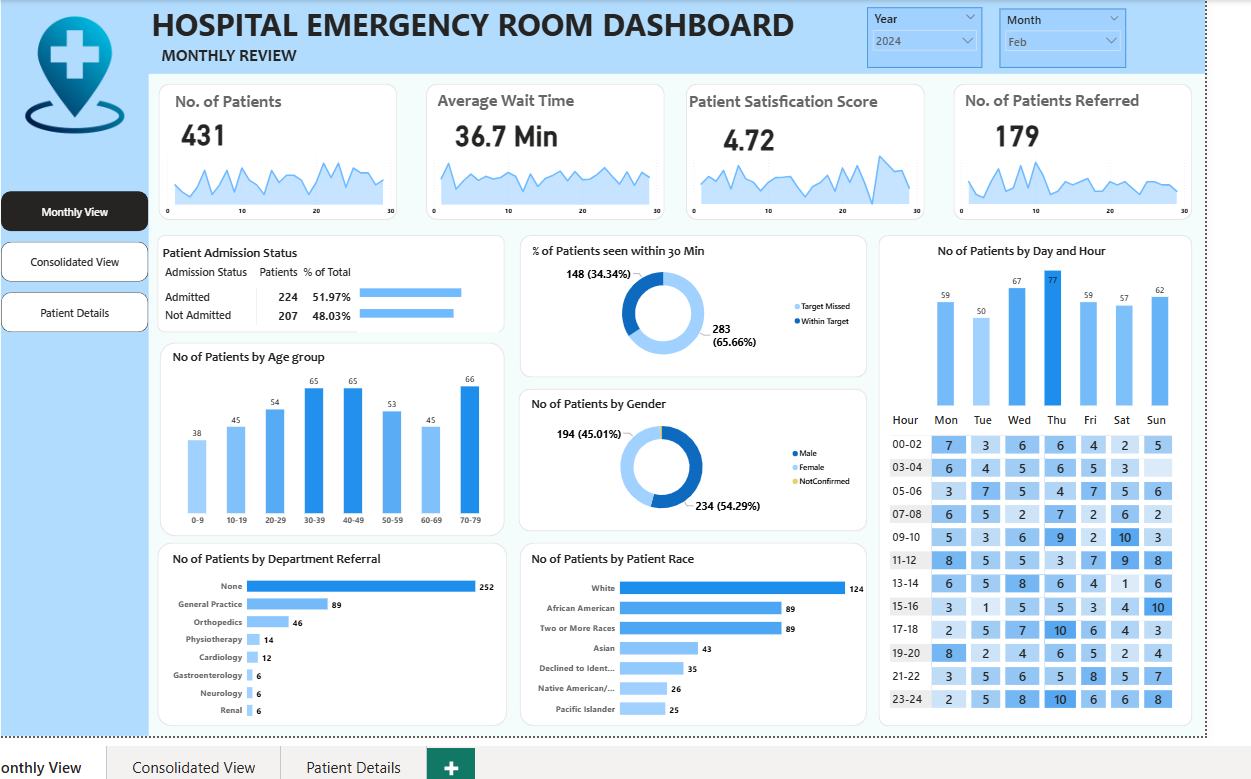

What the dashboard file says about the page in this screenshot:
{"tool":"powerbi","page":{"name":"Monthly View","canvas":[2300,1400],"ordinal":0},"visuals":[{"type":"shape","box":[9.9,0,280.9,1399.3],"z":0},{"type":"shape","box":[290.7,0,2010.3,140.4],"z":1000},{"type":"textbox","box":[290,0,1276.4,111.7],"z":2000},{"type":"shape","box":[309,159.3,454,259.1],"z":3000},{"type":"textbox","box":[309,80.8,287.6,59.4],"z":4000},{"type":"card","fields":{"Values":["Hospital ER_Data.No of Patient"]},"box":[335.1,211.5,121.2,76.1],"z":5000},{"type":"slicer","fields":{"Values":["Date Table.year"]},"box":[1656.7,14.3,218.7,114.1],"z":6000},{"type":"slicer","fields":{"Values":["Date Table.Month"]},"box":[1908.7,16.6,240.1,111.7],"z":7000},{"type":"textbox","box":[335.1,168.8,235.3,54.7],"z":8000},{"type":"areaChart","fields":{"Category":["Date Table.Date.Variation.Date Hierarchy.Day"],"Y":["Hospital ER_Data.No of Patients"]},"box":[311.4,282.9,454,135.5],"z":9000},{"type":"shape","box":[817.7,159.3,454,259.1],"z":10000},{"type":"shape","box":[1312.1,159.3,454,259.1],"z":11000},{"type":"shape","box":[1820.7,159.3,454,259.1],"z":12000},{"type":"textbox","box":[1837.4,166.4,358.9,59.4],"z":13000},{"type":"textbox","box":[1312.1,168.8,408.8,57],"z":14000},{"type":"textbox","box":[834.3,166.4,282.9,54.7],"z":15000},{"type":"card","fields":{"Values":["Hospital ER_Data.avg wait time"]},"box":[850.9,213.9,240.1,76.1],"z":16000},{"type":"areaChart","fields":{"Category":["Date Table.Date.Variation.Date Hierarchy.Day"],"Y":["Avg(Hospital ER_Data.Patient Waittime)"]},"box":[817.7,282.9,454,135.5],"z":17000},{"type":"areaChart","fields":{"Category":["Date Table.Date.Variation.Date Hierarchy.Day"],"Y":["Hospital ER_Data.satisffication score"]},"box":[1312.1,282.9,454,135.5],"z":18000},{"type":"card","fields":{"Values":["Hospital ER_Data.satisffication score"]},"box":[1312.1,221.1,240.1,76.1],"z":19000},{"type":"card","fields":{"Values":["Hospital ER_Data.no of referal"]},"box":[1820.7,213.9,240.1,76.1],"z":20000},{"type":"shape","box":[306.6,446.9,660.8,185.4],"z":21000},{"type":"areaChart","fields":{"Category":["Date Table.Date.Variation.Date Hierarchy.Day"],"Y":["Hospital ER_Data.no of referal"]},"box":[1820.7,282.9,454,135.5],"z":22000},{"type":"pivotTable","title":"Patient Admission Status","fields":{"Rows":["Hospital ER_Data.Admission Status"],"Values":["Hospital ER_Data.No of Patients1","Hospital ER_Data.No of Patients"]},"box":[311.4,465.9,401.7,185.4],"z":23000},{"type":"barChart","fields":{"Category":["Hospital ER_Data.Admission Status"],"Y":["Hospital ER_Data.No of Patients"]},"box":[686.9,515.8,268.6,116.5],"z":24000},{"type":"shape","box":[311.4,651.3,656,368.4],"z":25000},{"type":"clusteredColumnChart","fields":{"Category":["Hospital ER_Data.Age group"],"Y":["Hospital ER_Data.No of Patients"]},"box":[330.4,663.2,625.1,347],"z":26000},{"type":"shape","box":[306.6,1031.6,665.5,349.4],"z":27000},{"type":"clusteredBarChart","fields":{"Category":["Hospital ER_Data.Department Referral"],"Y":["Hospital ER_Data.No of Patients"]},"box":[330.4,1048.2,625.1,332.8],"z":28000},{"type":"shape","box":[995.9,446.9,660.8,271],"z":29000},{"type":"donutChart","title":"% of Patients seen within 30 Min","fields":{"Category":["Hospital ER_Data.waittime status"],"Y":["Hospital ER_Data.No of Patients"]},"box":[1014.9,461.1,622.8,240.1],"z":30000},{"type":"shape","box":[993.5,739.2,663.2,271],"z":31000},{"type":"donutChart","title":"No of Patients by Gender","fields":{"Y":["Hospital ER_Data.No of Patients"],"Category":["Hospital ER_Data.Patient Gender"]},"box":[1012.6,753.5,625.1,240.1],"z":32000},{"type":"shape","box":[995.9,1031.6,660.8,349.4],"z":33000},{"type":"clusteredBarChart","fields":{"Y":["Hospital ER_Data.No of Patients"],"Category":["Hospital ER_Data.Patient Race"]},"box":[1012.6,1048.2,644.1,332.8],"z":34000},{"type":"shape","box":[1678.1,446.9,596.6,934.1],"z":35000},{"type":"pivotTable","fields":{"Rows":["Hospital ER_Data.Waittime Interval"],"Columns":["Date Table.Day Name"],"Values":["Hospital ER_Data.No of Patients"]},"box":[1694.7,777.2,580,603.7],"z":36000},{"type":"columnChart","title":"No of Patients by Day and Hour","fields":{"Category":["Date Table.Day Name"],"Y":["Hospital ER_Data.No of Patients"]},"box":[1785.1,461.1,451.6,316.1],"z":37000},{"type":"image","box":[9.5,26.1,280.5,232.9],"z":38000},{"type":"pageNavigator","box":[9.5,363.7,280.5,268.6],"z":39000}]}

Visuals, with their boxes on the page's 2300x1400 design canvas (x1, y1, x2, y2). These are canvas units, not pixel positions in the 1251x779 screenshot, which may show the page scaled, cropped or inside an application window:
shape: box=[10, 0, 291, 1399]
shape: box=[291, 0, 2301, 140]
textbox: box=[290, 0, 1566, 112]
shape: box=[309, 159, 763, 418]
textbox: box=[309, 81, 597, 140]
card - Hospital ER_Data.No of Patient: box=[335, 212, 456, 288]
slicer - Date Table.year: box=[1657, 14, 1875, 128]
slicer - Date Table.Month: box=[1909, 17, 2149, 128]
textbox: box=[335, 169, 570, 224]
areaChart - Date Table.Date.Variation.Date Hierarchy.Day x Hospital ER_Data.No of Patients: box=[311, 283, 765, 418]
shape: box=[818, 159, 1272, 418]
shape: box=[1312, 159, 1766, 418]
shape: box=[1821, 159, 2275, 418]
textbox: box=[1837, 166, 2196, 226]
textbox: box=[1312, 169, 1721, 226]
textbox: box=[834, 166, 1117, 221]
card - Hospital ER_Data.avg wait time: box=[851, 214, 1091, 290]
areaChart - Date Table.Date.Variation.Date Hierarchy.Day x Avg(Hospital ER_Data.Patient Waittime): box=[818, 283, 1272, 418]
areaChart - Date Table.Date.Variation.Date Hierarchy.Day x Hospital ER_Data.satisffication score: box=[1312, 283, 1766, 418]
card - Hospital ER_Data.satisffication score: box=[1312, 221, 1552, 297]
card - Hospital ER_Data.no of referal: box=[1821, 214, 2061, 290]
shape: box=[307, 447, 967, 632]
areaChart - Date Table.Date.Variation.Date Hierarchy.Day x Hospital ER_Data.no of referal: box=[1821, 283, 2275, 418]
"Patient Admission Status" pivotTable: box=[311, 466, 713, 651]
barChart - Hospital ER_Data.Admission Status x Hospital ER_Data.No of Patients: box=[687, 516, 956, 632]
shape: box=[311, 651, 967, 1020]
clusteredColumnChart - Hospital ER_Data.Age group x Hospital ER_Data.No of Patients: box=[330, 663, 956, 1010]
shape: box=[307, 1032, 972, 1381]
clusteredBarChart - Hospital ER_Data.Department Referral x Hospital ER_Data.No of Patients: box=[330, 1048, 956, 1381]
shape: box=[996, 447, 1657, 718]
"% of Patients seen within 30 Min" donutChart: box=[1015, 461, 1638, 701]
shape: box=[994, 739, 1657, 1010]
"No of Patients by Gender" donutChart: box=[1013, 754, 1638, 994]
shape: box=[996, 1032, 1657, 1381]
clusteredBarChart - Hospital ER_Data.No of Patients x Hospital ER_Data.Patient Race: box=[1013, 1048, 1657, 1381]
shape: box=[1678, 447, 2275, 1381]
pivotTable - Hospital ER_Data.Waittime Interval x Date Table.Day Name: box=[1695, 777, 2275, 1381]
"No of Patients by Day and Hour" columnChart: box=[1785, 461, 2237, 777]
image: box=[10, 26, 290, 259]
pageNavigator: box=[10, 364, 290, 632]
